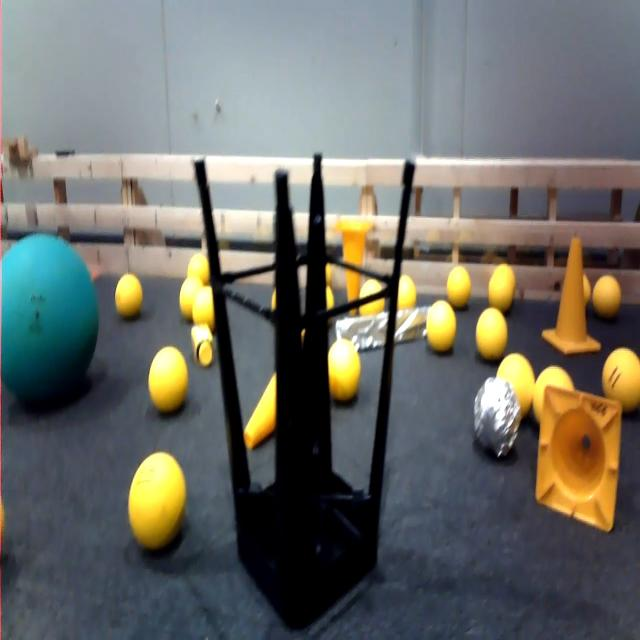fuel: (122, 442, 190, 566), (418, 278, 468, 362), (147, 338, 196, 421), (600, 330, 640, 421), (320, 333, 368, 405), (530, 361, 574, 420), (475, 303, 511, 372), (494, 351, 540, 405), (442, 256, 478, 310), (114, 267, 147, 322), (392, 267, 425, 317), (592, 269, 626, 316), (186, 252, 217, 296), (179, 268, 204, 321), (357, 270, 388, 312), (0, 469, 14, 558), (194, 286, 220, 331), (487, 273, 516, 312), (323, 256, 342, 284), (320, 283, 336, 315), (494, 260, 516, 282), (582, 272, 593, 312), (266, 287, 278, 313)
